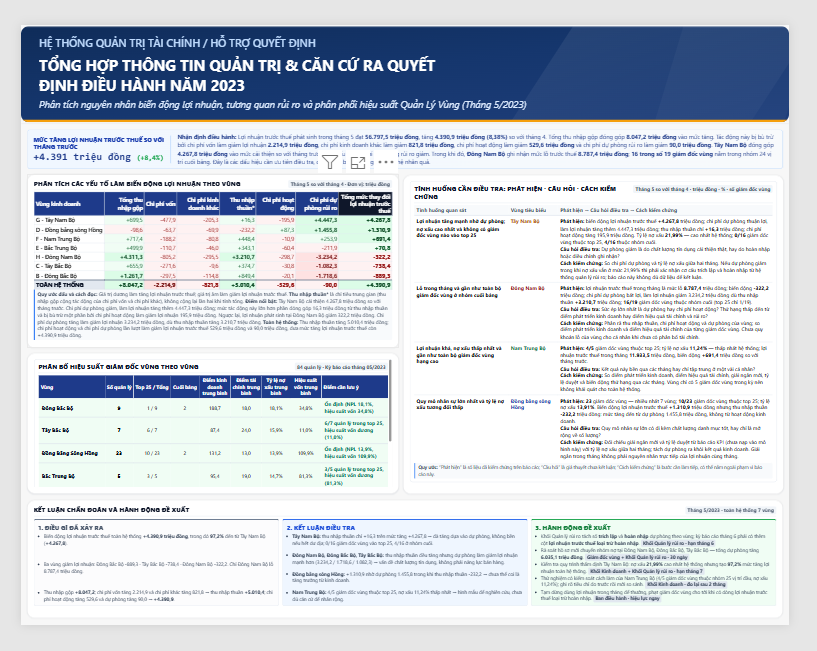

The page's visual inventory and layout, read from the dashboard file:
{"tool":"powerbi","page":{"name":"PHÂN TÍCH CHUYÊN SÂU VÀ ĐƯA RA KẾT LUẬN","canvas":[1920,1500],"ordinal":4},"visuals":[{"type":"image","title":"GRAD XANH","box":[0,0,1920,246.5],"z":0,"group":"g1"},{"type":"group","id":"g1","title":"TIÊU ĐỀ","box":[0,0,1920,246.7],"z":0},{"type":"textbox","box":[46,74.2,1007,132],"z":1000,"group":"g1"},{"type":"htmlContent443BE3AD55E043BF878BED274D3A6865","fields":{"content":["LAI LO (Visuals & DAX).Page3_Headline_HTML"]},"box":[0,248.3,1920,131.7],"z":1000},{"type":"htmlContent443BE3AD55E043BF878BED274D3A6865","fields":{"content":["LAI LO (Visuals & DAX).Page3_Heatmap_Table_HTML"]},"box":[15.7,372.9,930,435.7],"z":2000},{"type":"textbox","box":[45.7,24.9,1009.2,49.9],"z":3000,"group":"g1"},{"type":"htmlContent443BE3AD55E043BF878BED274D3A6865","fields":{"content":["LAI LO (Visuals & DAX).Page5_ASM_Distribution_HTML"]},"box":[16,820,930,352],"z":3000},{"type":"textbox","box":[45,181.6,1635.4,47.9],"z":4000,"group":"g1"},{"type":"htmlContent443BE3AD55E043BF878BED274D3A6865","fields":{"content":["LAI LO (Visuals & DAX).Page5_Cross_Matrix_HTML"]},"box":[954,374,952,798],"z":4000},{"type":"htmlContent443BE3AD55E043BF878BED274D3A6865","fields":{"content":["LAI LO (Visuals & DAX).Page3_Diagnosis_Framework_HTML"]},"box":[16,1188,1890,296],"z":5000}]}

Visuals, with their boxes in screenshot pixels (x1, y1, x2, y2), scaled from the page's 1920x1500 canvas onto the 817x651 screenshot:
"GRAD XANH" image: locate(0, 0, 816, 107)
"TIÊU ĐỀ" group: locate(0, 0, 816, 107)
textbox: locate(20, 32, 448, 89)
htmlContent443BE3AD55E043BF878BED274D3A6865 - LAI LO (Visuals & DAX).Page3_Headline_HTML: locate(0, 108, 816, 165)
htmlContent443BE3AD55E043BF878BED274D3A6865 - LAI LO (Visuals & DAX).Page3_Heatmap_Table_HTML: locate(7, 162, 402, 351)
textbox: locate(19, 11, 449, 32)
htmlContent443BE3AD55E043BF878BED274D3A6865 - LAI LO (Visuals & DAX).Page5_ASM_Distribution_HTML: locate(7, 356, 403, 509)
textbox: locate(19, 79, 715, 100)
htmlContent443BE3AD55E043BF878BED274D3A6865 - LAI LO (Visuals & DAX).Page5_Cross_Matrix_HTML: locate(406, 162, 811, 509)
htmlContent443BE3AD55E043BF878BED274D3A6865 - LAI LO (Visuals & DAX).Page3_Diagnosis_Framework_HTML: locate(7, 516, 811, 644)
